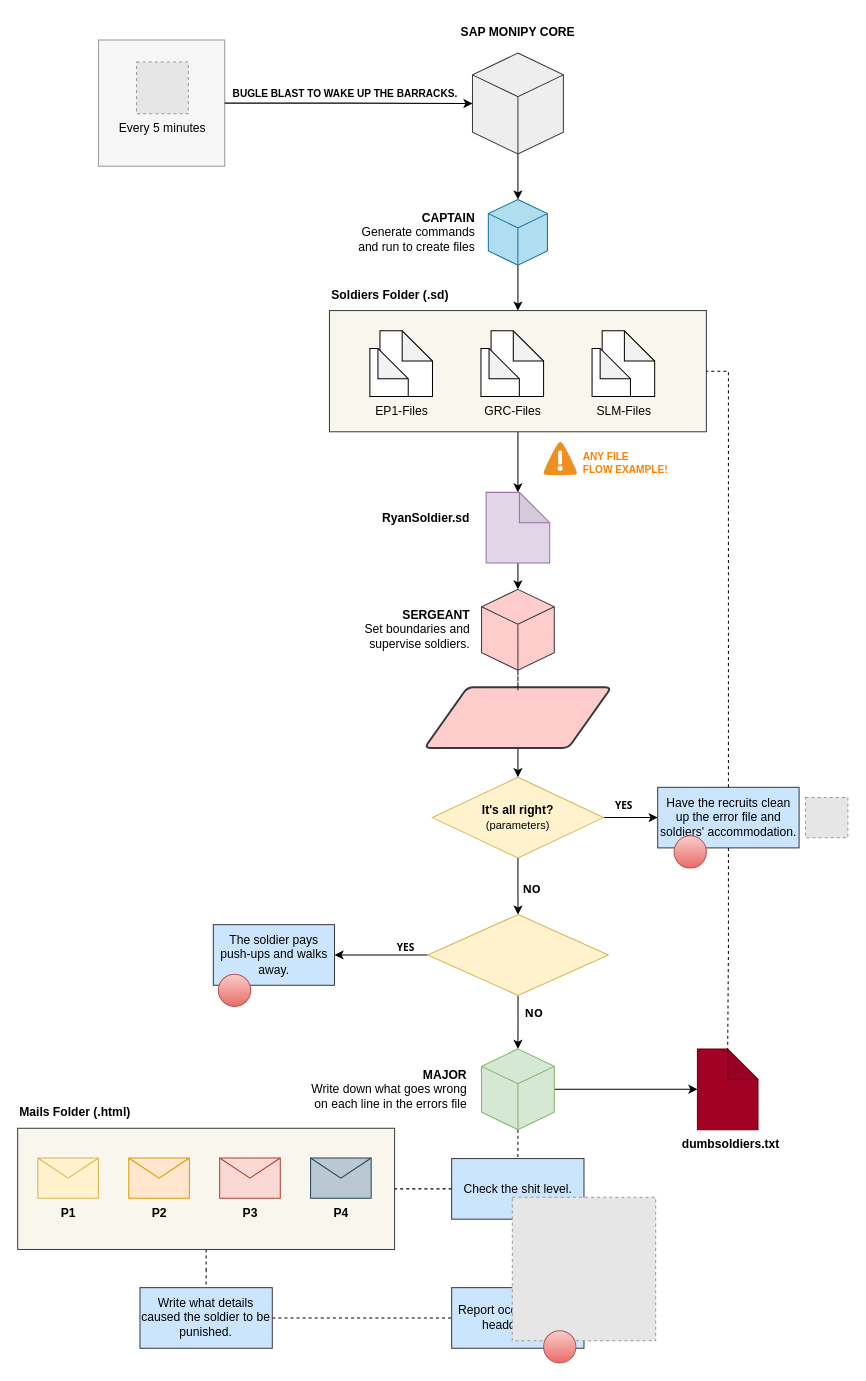
Some shapes in this 866 by 1381 pixel diagram are drawn without their labels. Grey dashed boxes stand in for pictures. The shapes that lost their labels are listed below. From the top down, each one's box as (x1, y1, x2, y2) in pixels, then its label:
(423, 686, 612, 748): Report everything on a hand list.
(427, 914, 608, 995): Did this crap happen in the last 12 hours ?
(696, 1048, 758, 1130): ERRORS
